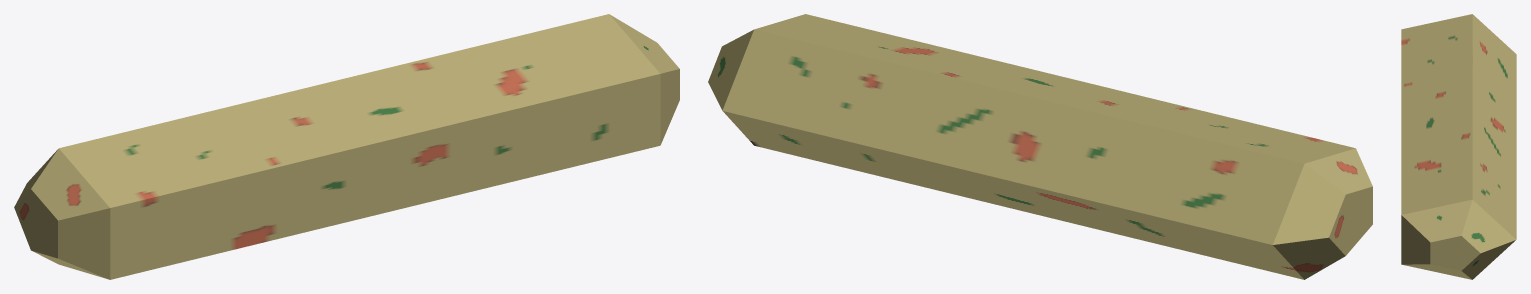
Rendered from LumpiaGulay.fbx.
3 renders of one model, left to right at view 1: azimuth 30°, elevation 25°; view 2: azimuth 150°, elevation 25°; view 3: azimuth 270°, elevation 25°, orthographic. The views are drawn at different scales.
Visible parts, largest first — view 1: Lumpia Gulay; view 2: Lumpia Gulay; view 3: Lumpia Gulay.
Part boxes in pixels (x1=…): Lumpia Gulay: x1=14, y1=14, x2=679, y2=279; Lumpia Gulay: x1=708, y1=14, x2=1372, y2=279; Lumpia Gulay: x1=1401, y1=14, x2=1516, y2=279.
Size of the model in its own units: 61.07 by 14.08 by 10.85.
